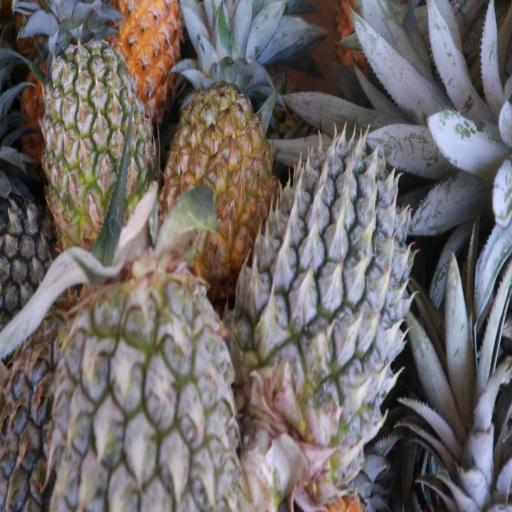------------------------------: (40, 46, 150, 256)
Pineapple - v8 v1: (160, 80, 270, 277)
